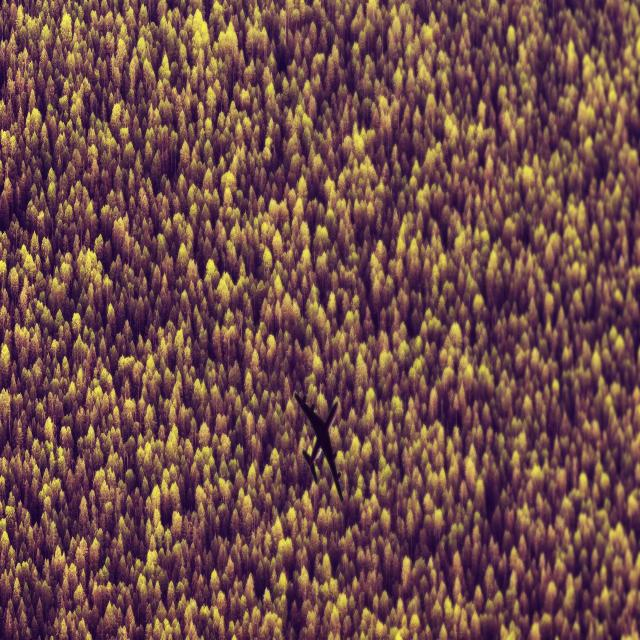airplane: (293, 390, 344, 502)
